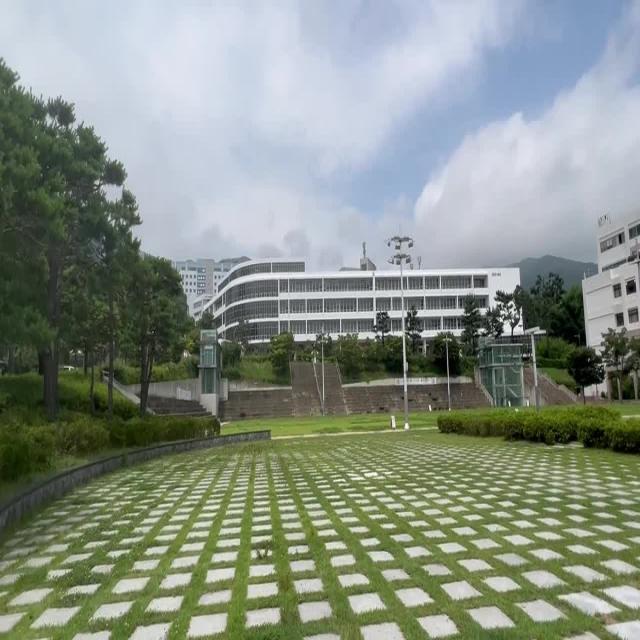building: (218, 241, 520, 328)
